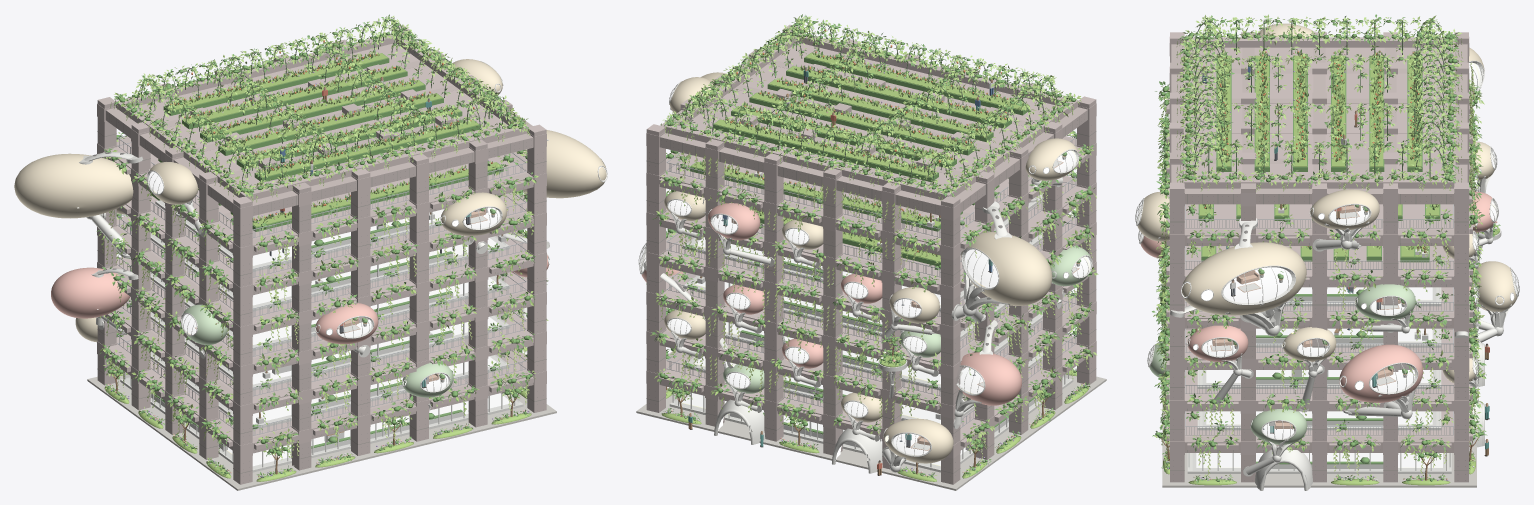
Rendered from pod-frame-tower-2127.glb.
The picture shows the model from 3 angles, left to right: view 1: azimuth 30°, elevation 25°; view 2: azimuth 150°, elevation 25°; view 3: azimuth 270°, elevation 25°; orthographic projection. The views are drawn at different scales.
Visible parts, largest first — view 1: pft_concrete, pft_green, pft_concrete_b, pft_leaf_l, pft_white, pft_leaf_c, pft_pod_y, pft_rail, pft_floor, pft_paving, pft_pod_p, pft_arch (+4 smaller); view 2: pft_concrete, pft_green, pft_concrete_b, pft_leaf_l, pft_white, pft_leaf_c, pft_pod_y, pft_floor, pft_pod_p, pft_vine, pft_rail, pft_paving (+6 smaller); view 3: pft_concrete, pft_green, pft_white, pft_leaf_l, pft_concrete_b, pft_leaf_c, pft_pod_y, pft_floor, pft_pod_p, pft_rail, pft_paving, pft_arch (+9 smaller).
Part boxes in pixels (left/top/right/bottom): pft_concrete: left=97, top=25, right=546, bottom=484; pft_green: left=96, top=14, right=547, bottom=477; pft_concrete_b: left=97, top=36, right=533, bottom=470; pft_leaf_l: left=98, top=29, right=548, bottom=481; pft_white: left=79, top=60, right=607, bottom=476; pft_leaf_c: left=110, top=16, right=530, bottom=221; pft_pod_y: left=14, top=59, right=606, bottom=342; pft_rail: left=117, top=135, right=526, bottom=435; pft_floor: left=77, top=176, right=511, bottom=466; pft_paving: left=87, top=374, right=556, bottom=490; pft_pod_p: left=51, top=70, right=548, bottom=476; pft_arch: left=136, top=20, right=507, bottom=185; pft_concrete: left=646, top=24, right=1096, bottom=469; pft_green: left=646, top=14, right=1094, bottom=478; pft_concrete_b: left=659, top=35, right=1087, bottom=484; pft_leaf_l: left=650, top=24, right=1098, bottom=481; pft_white: left=638, top=69, right=1092, bottom=476; pft_leaf_c: left=660, top=15, right=1076, bottom=256; pft_pod_y: left=664, top=72, right=1079, bottom=463; pft_floor: left=643, top=155, right=1087, bottom=466; pft_pod_p: left=641, top=66, right=1084, bottom=476; pft_vine: left=679, top=150, right=1092, bottom=457; pft_rail: left=666, top=135, right=1076, bottom=428; pft_paving: left=636, top=374, right=1106, bottom=490; pft_concrete: left=1166, top=32, right=1472, bottom=482; pft_green: left=1152, top=14, right=1500, bottom=483; pft_white: left=1135, top=23, right=1519, bottom=490; pft_leaf_l: left=1153, top=28, right=1499, bottom=485; pft_concrete_b: left=1170, top=32, right=1468, bottom=482; pft_leaf_c: left=1176, top=14, right=1463, bottom=251; pft_pod_y: left=1137, top=23, right=1517, bottom=382; pft_floor: left=1196, top=73, right=1494, bottom=467; pft_pod_p: left=1140, top=53, right=1497, bottom=480; pft_rail: left=1185, top=204, right=1453, bottom=435; pft_paving: left=1162, top=324, right=1476, bottom=487; pft_arch: left=1194, top=20, right=1444, bottom=178.
Bounding box in the file's own units: 55.76 × 35.84 × 37.88.
